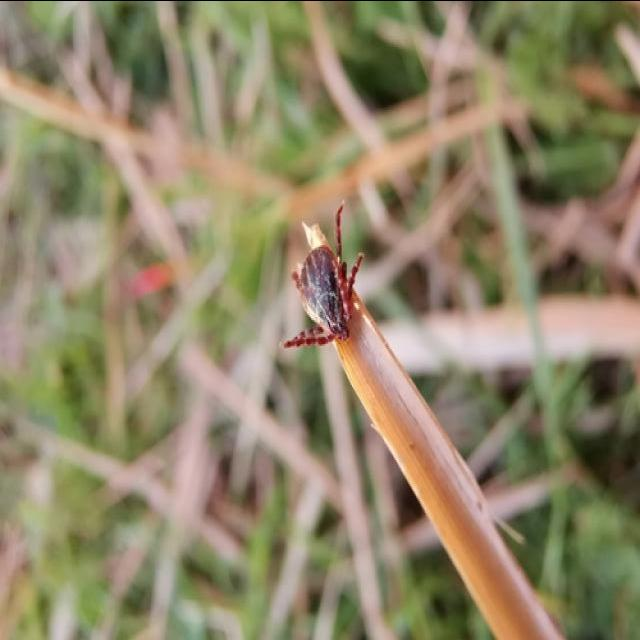Dermacentor Reticulatus-M: (284, 200, 364, 345)
